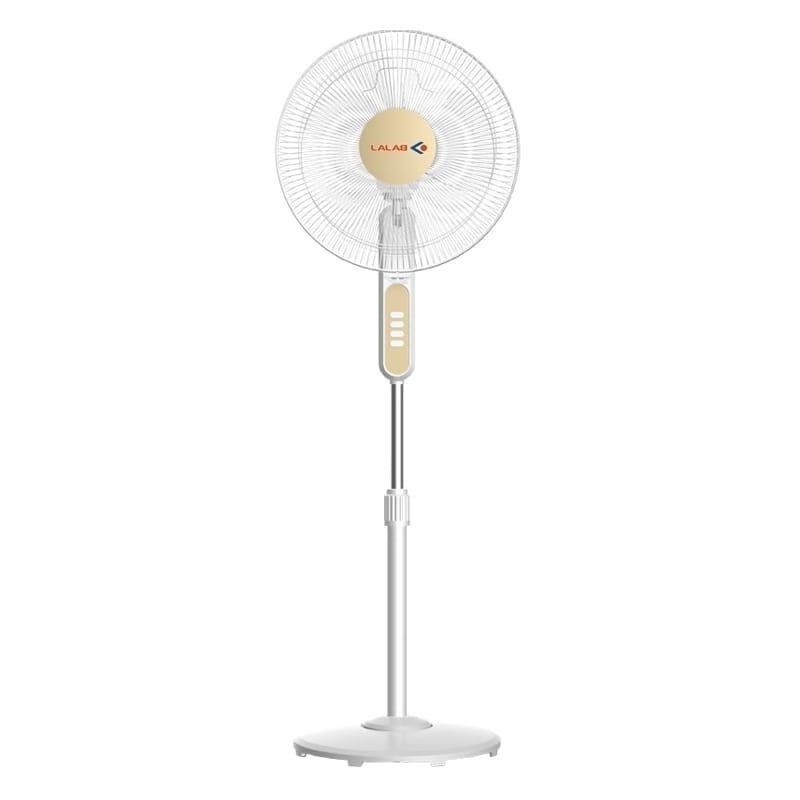fan: (235, 0, 564, 800)
